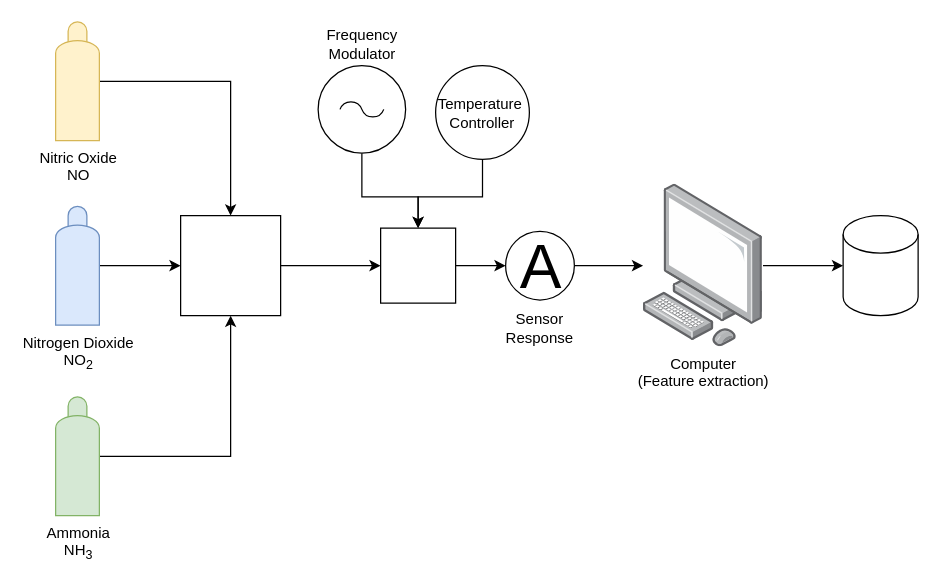
The diagram is 940 pixels wide and 586 high, and some of its shapes have lost their labels. Here are the shapes that lost their labels. From the top down, the box of each, then its label:
(179, 214, 281, 316): Gas mixing system
(379, 227, 456, 303): SiC-FET Sensor
(842, 214, 918, 316): Data: Slope, Average
